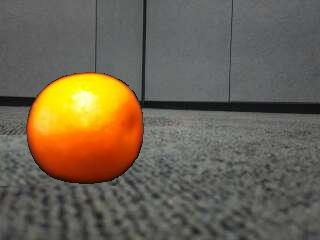Orange: (27, 72, 145, 184)
